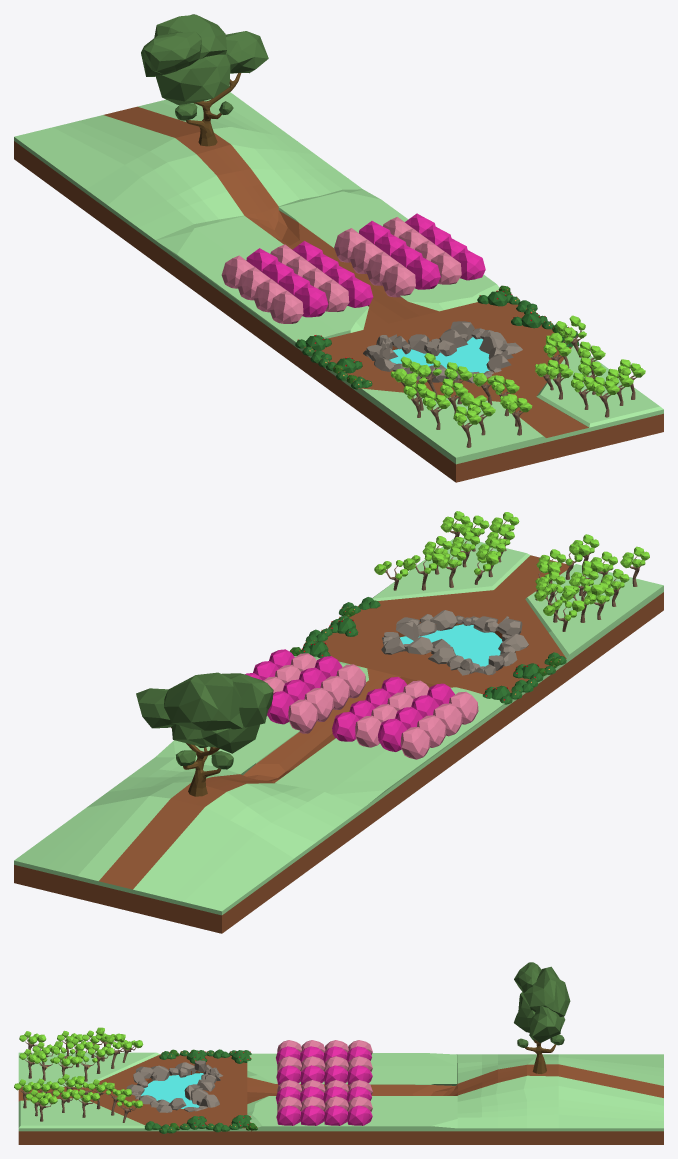
Rendered from modeling.glb.
3 renders of one model, top to bottom at view 1: azimuth 30°, elevation 25°; view 2: azimuth 150°, elevation 25°; view 3: azimuth 270°, elevation 25°, orthographic. The views are drawn at different scales.
Visible parts, largest first — view 1: ground, hills, Bush3.020, Bush3.101, Bush3.067, Bush3.084, Bush3.106, Bush3.002, Bush3.001, Bush3.107; view 2: ground, hills, Bush3.058, Bush3.098, Bush3.095, Bush3.097, Bush3.096, Bush3.017, Bush3.062, Bush3.057, Bush3.020, Bush3.102 (+1 smaller); view 3: ground, hills, Bush3.061, Bush3.002, Bush3.014, Bush3.063, Bush3.096, Bush3.106, Bush3.094, Bush3.104, Tree1.007, Tree1.011 (+5 smaller).
Boxes of the visible parts, x1=… form: ground: x1=14, y1=92, x2=663, y2=482; hills: x1=141, y1=14, x2=268, y2=146; Bush3.020: x1=382, y1=263, x2=415, y2=297; Bush3.101: x1=269, y1=290, x2=303, y2=323; Bush3.067: x1=294, y1=283, x2=328, y2=317; Bush3.084: x1=407, y1=256, x2=440, y2=289; Bush3.106: x1=340, y1=276, x2=373, y2=307; Bush3.002: x1=453, y1=248, x2=485, y2=280; Bush3.001: x1=431, y1=252, x2=461, y2=284; Bush3.107: x1=318, y1=279, x2=349, y2=311; ground: x1=14, y1=536, x2=663, y2=933; hills: x1=136, y1=672, x2=273, y2=796; Bush3.058: x1=288, y1=699, x2=317, y2=733; Bush3.098: x1=401, y1=727, x2=430, y2=759; Bush3.095: x1=378, y1=718, x2=406, y2=751; Bush3.097: x1=355, y1=715, x2=381, y2=747; Bush3.096: x1=332, y1=712, x2=358, y2=741; Bush3.017: x1=320, y1=676, x2=349, y2=709; Bush3.062: x1=267, y1=691, x2=294, y2=724; Bush3.057: x1=304, y1=687, x2=333, y2=721; Bush3.020: x1=336, y1=664, x2=365, y2=698; Bush3.102: x1=433, y1=703, x2=462, y2=736; ground: x1=18, y1=1052, x2=663, y2=1144; hills: x1=514, y1=962, x2=570, y2=1073; Bush3.061: x1=347, y1=1105, x2=372, y2=1125; Bush3.002: x1=276, y1=1105, x2=300, y2=1125; Bush3.014: x1=300, y1=1105, x2=324, y2=1125; Bush3.063: x1=324, y1=1105, x2=347, y2=1125; Bush3.096: x1=347, y1=1065, x2=372, y2=1085; Bush3.106: x1=276, y1=1065, x2=300, y2=1085; Bush3.094: x1=324, y1=1065, x2=347, y2=1085; Bush3.104: x1=300, y1=1065, x2=324, y2=1084; Tree1.007: x1=87, y1=1044, x2=114, y2=1073; Tree1.011: x1=116, y1=1094, x2=142, y2=1122.
Bounding box in the file's own units: 26.02 × 19.78 × 87.93.
